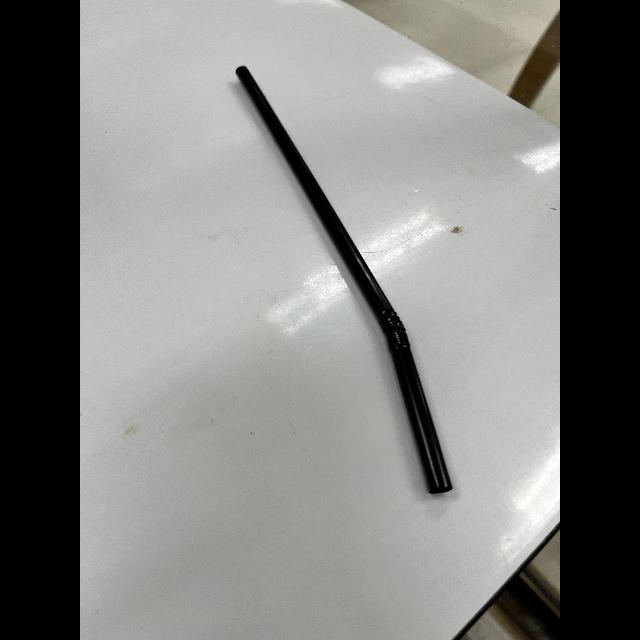straw: (231, 64, 453, 502)
